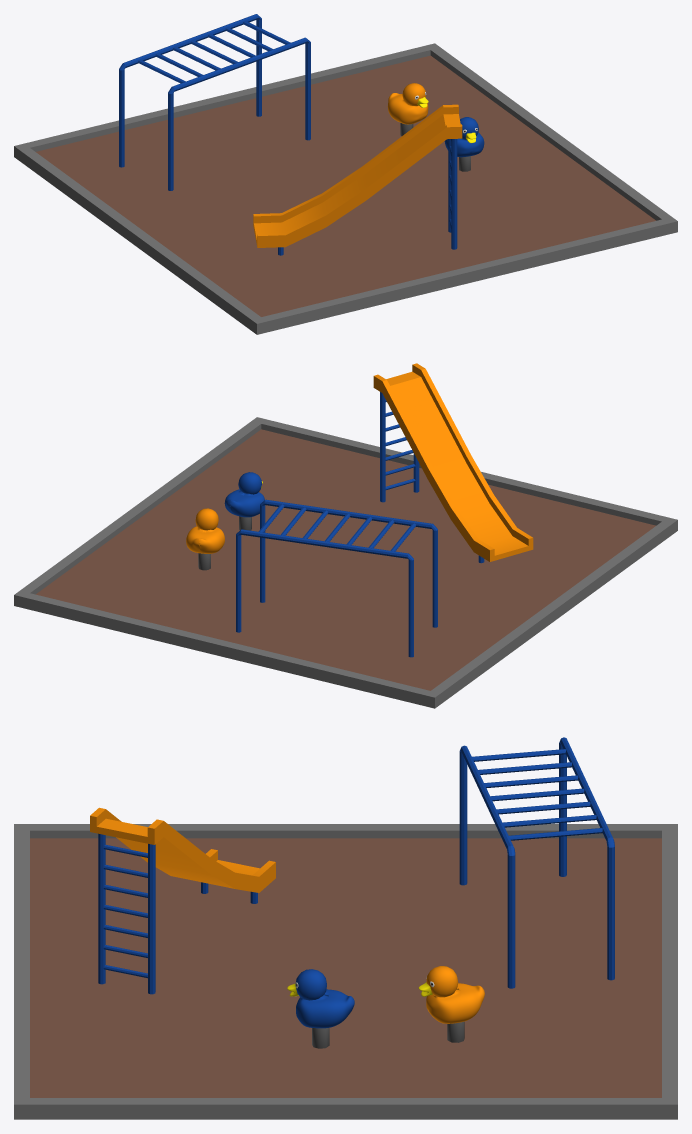
Rendered from Park.fbx.
3 renders of one model, top to bottom at view 1: azimuth 30°, elevation 25°; view 2: azimuth 150°, elevation 25°; view 3: azimuth 270°, elevation 25°, orthographic. The views are drawn at different scales.
Parts seen in each view (by area): view 1: Park, Slide, Monkey bars, Duck2, Duck; view 2: Park, Slide, Monkey bars, Duck2, Duck; view 3: Park, Monkey bars, Slide, Duck, Duck2.
Boxes of the visible parts, bbox=[...] form: Park: bbox=[14, 43, 677, 334]; Slide: bbox=[253, 104, 462, 255]; Monkey bars: bbox=[119, 14, 310, 190]; Duck2: bbox=[387, 83, 428, 136]; Duck: bbox=[444, 117, 484, 171]; Park: bbox=[14, 417, 677, 708]; Slide: bbox=[373, 363, 533, 563]; Monkey bars: bbox=[236, 499, 437, 657]; Duck2: bbox=[186, 508, 224, 570]; Duck: bbox=[224, 472, 264, 530]; Park: bbox=[14, 824, 677, 1119]; Monkey bars: bbox=[459, 737, 614, 988]; Slide: bbox=[90, 807, 275, 994]; Duck: bbox=[287, 969, 354, 1048]; Duck2: bbox=[418, 966, 484, 1042].
Size of the model in its own units: 1201 by 357 by 1201.
